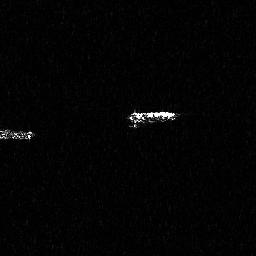ship: (126, 106, 184, 130), (1, 127, 38, 143)
